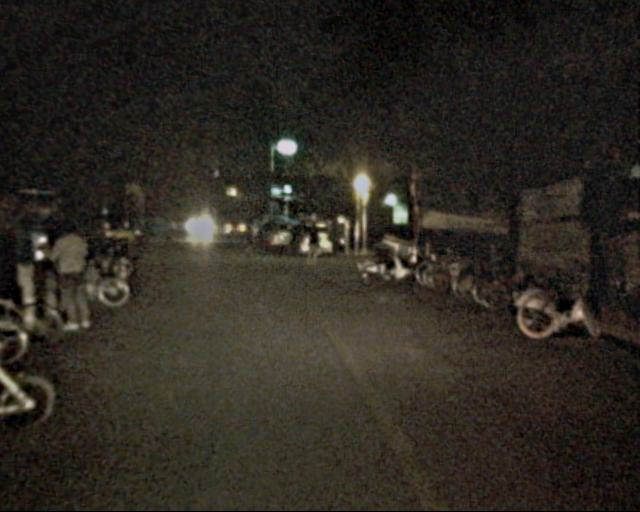person: (49, 215, 101, 336), (304, 225, 323, 269), (241, 226, 255, 259)
